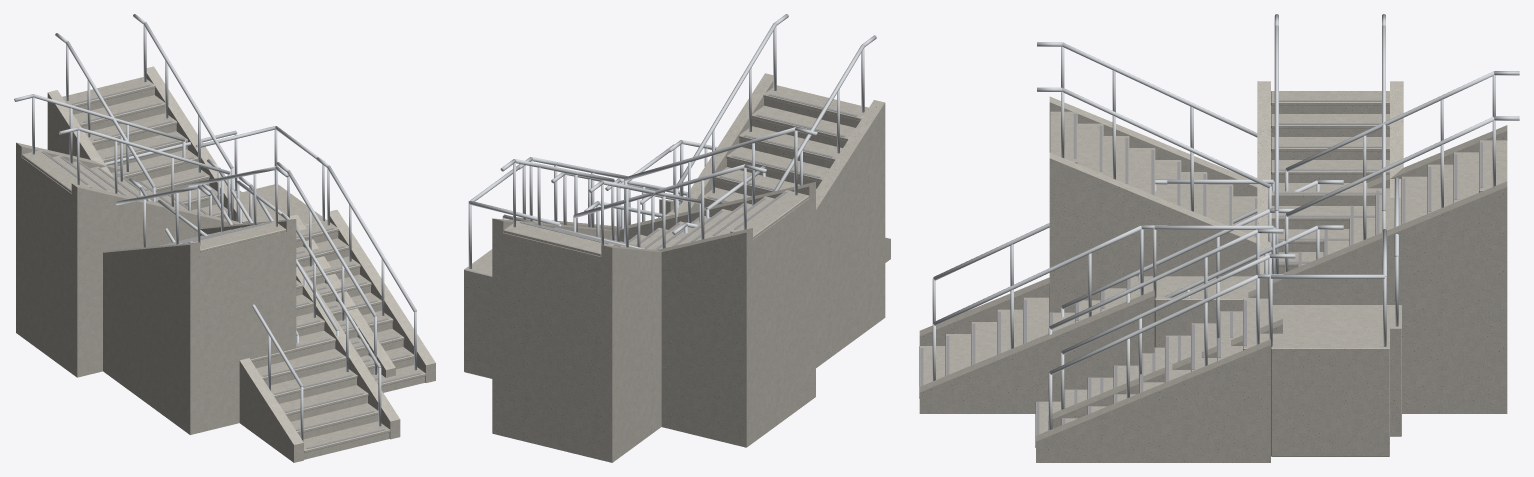
The model's file is ST19-realistic.glb.
3 renders of one model, left to right at view 1: azimuth 30°, elevation 25°; view 2: azimuth 150°, elevation 25°; view 3: azimuth 270°, elevation 25°, orthographic. The views are drawn at different scales.
Parts seen in each view (by area): view 1: stair__ST19__L__realistic, stair__ST19__U__realistic, stair__ST19__straight-landing__realistic, stair__ST19__straight__realistic; view 2: stair__ST19__L__realistic, stair__ST19__straight-landing__realistic, stair__ST19__U__realistic, stair__ST19__straight__realistic; view 3: stair__ST19__straight-landing__realistic, stair__ST19__L__realistic, stair__ST19__U__realistic, stair__ST19__straight__realistic.
Part boxes in pixels (x1,y1,x2,y2): stair__ST19__L__realistic: (14,94,435,392); stair__ST19__U__realistic: (103,130,395,434); stair__ST19__straight-landing__realistic: (47,14,400,462); stair__ST19__straight__realistic: (129,159,253,242); stair__ST19__L__realistic: (464,127,817,447); stair__ST19__straight-landing__realistic: (492,140,890,462); stair__ST19__U__realistic: (502,14,885,367); stair__ST19__straight__realistic: (584,201,697,237); stair__ST19__straight-landing__realistic: (919,71,1519,413); stair__ST19__L__realistic: (1035,14,1403,462); stair__ST19__U__realistic: (1037,42,1401,436); stair__ST19__straight__realistic: (1165,180,1343,304).
Size of the model in its own units: 4.45 by 3.75 by 7.06.
Materials: 3 (1 with a texture image).
